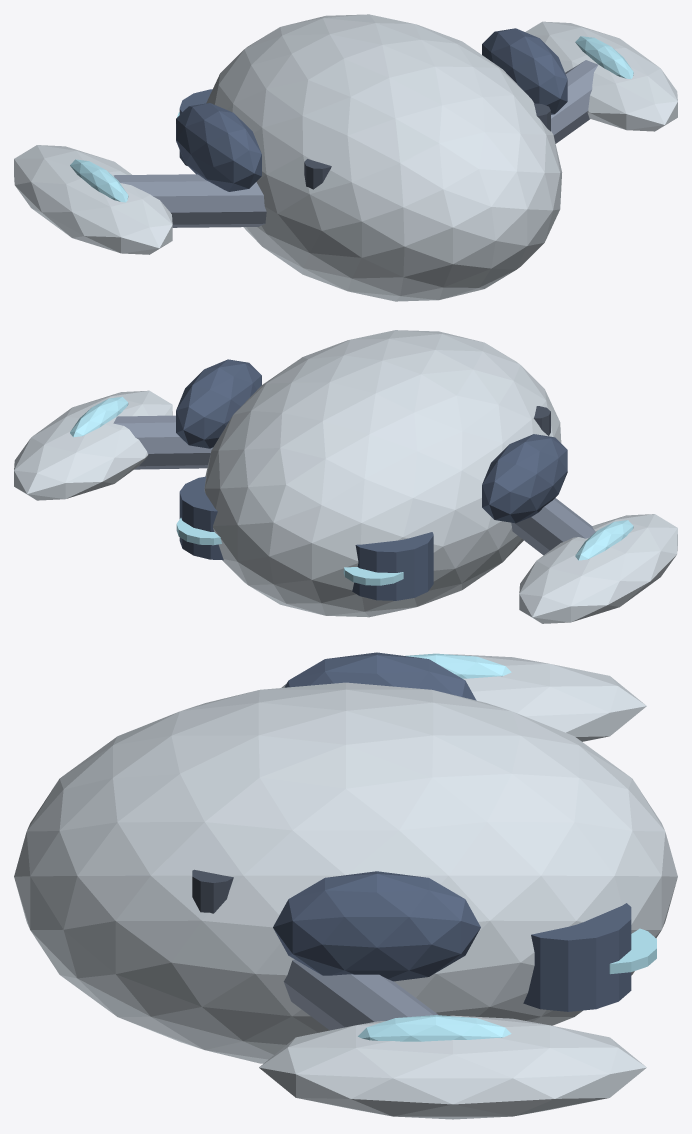
File: npc_devolarium.glb
3 renders of one model, top to bottom at view 1: azimuth 30°, elevation 25°; view 2: azimuth 150°, elevation 25°; view 3: azimuth 270°, elevation 25°, orthographic. The views are drawn at different scales.
Visible parts, largest first — view 1: hull, wing_armor_-1, wing_armor_1, shield_pod_-1, wingframe_-1, shield_pod_1, wingframe_1, wing_energy_1, wing_energy_-1, weapon_-1; view 2: hull, wing_armor_-1, wing_armor_1, shield_pod_-1, shield_pod_1, engine_-1, wingframe_1, wingframe_-1, engine_1, wing_energy_1, wing_energy_-1, engine_light_-1 (+1 smaller); view 3: hull, wing_armor_1, shield_pod_1, wing_armor_-1, engine_1, wingframe_1, shield_pod_-1, wing_energy_1, wing_energy_-1, weapon_1, engine_light_1.
Boxes of the visible parts, x1=… form: hull: x1=206, y1=14, x2=562, y2=301; wing_armor_-1: x1=14, y1=145, x2=172, y2=254; wing_armor_1: x1=525, y1=21, x2=677, y2=131; shield_pod_-1: x1=176, y1=103, x2=261, y2=191; wingframe_-1: x1=113, y1=174, x2=266, y2=227; shield_pod_1: x1=482, y1=28, x2=567, y2=114; wingframe_1: x1=551, y1=60, x2=597, y2=143; wing_energy_1: x1=575, y1=36, x2=633, y2=78; wing_energy_-1: x1=70, y1=159, x2=128, y2=202; weapon_-1: x1=304, y1=159, x2=331, y2=189; hull: x1=204, y1=330, x2=561, y2=617; wing_armor_-1: x1=519, y1=514, x2=677, y2=623; wing_armor_1: x1=14, y1=390, x2=172, y2=500; shield_pod_-1: x1=482, y1=434, x2=567, y2=523; shield_pod_1: x1=176, y1=359, x2=261, y2=448; engine_-1: x1=352, y1=532, x2=433, y2=600; wingframe_1: x1=113, y1=415, x2=212, y2=469; wingframe_-1: x1=511, y1=498, x2=595, y2=555; engine_1: x1=179, y1=476, x2=223, y2=560; wing_energy_1: x1=70, y1=396, x2=128, y2=437; wing_energy_-1: x1=575, y1=520, x2=633, y2=560; engine_light_-1: x1=343, y1=567, x2=403, y2=585; hull: x1=14, y1=682, x2=677, y2=1063; wing_armor_1: x1=259, y1=1015, x2=646, y2=1119; shield_pod_1: x1=273, y1=871, x2=480, y2=981; wing_armor_-1: x1=281, y1=654, x2=646, y2=741; engine_1: x1=523, y1=903, x2=631, y2=1011; wingframe_1: x1=283, y1=959, x2=438, y2=1030; shield_pod_-1: x1=284, y1=652, x2=476, y2=700; wing_energy_1: x1=358, y1=1015, x2=511, y2=1041; wing_energy_-1: x1=405, y1=653, x2=511, y2=678; weapon_1: x1=192, y1=869, x2=233, y2=913; engine_light_1: x1=609, y1=928, x2=656, y2=974.
Size of the model in its own units: 3.66 by 1.3 by 2.36.
